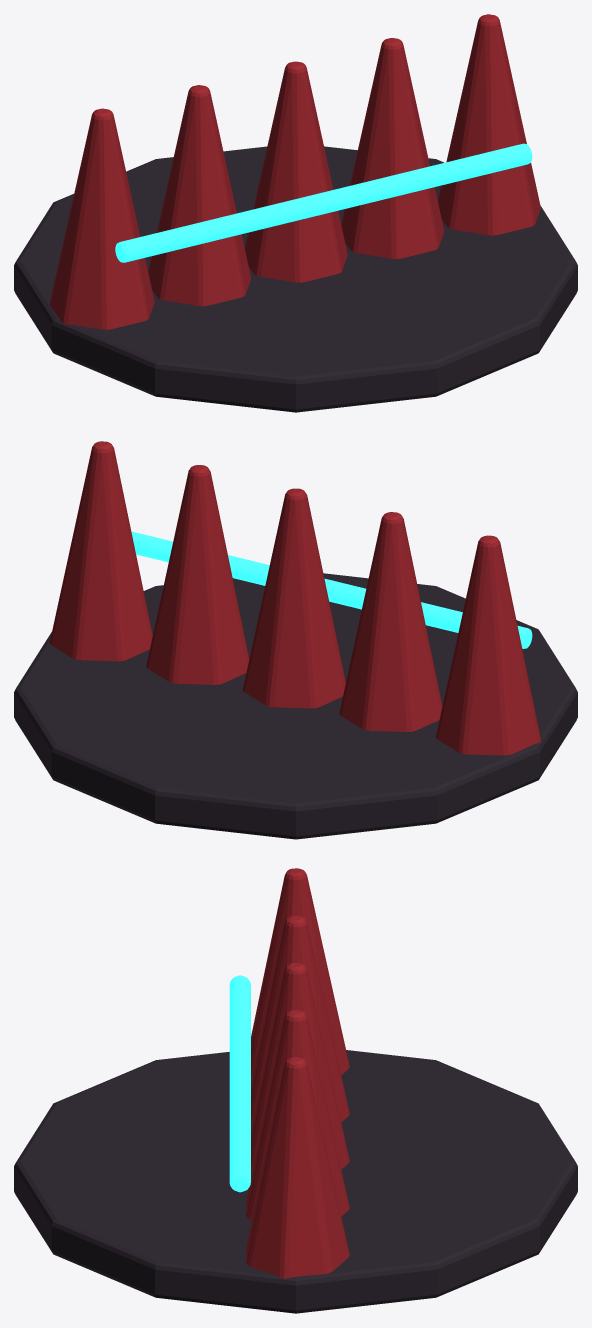
The model's file is alien_wall.glb.
The picture shows the model from 3 angles, top to bottom: view 1: azimuth 30°, elevation 25°; view 2: azimuth 150°, elevation 25°; view 3: azimuth 270°, elevation 25°; orthographic projection.
Visible parts, largest first — view 1: Foundation, WallBlade, WallBlade.004, WallBlade.002, WallBlade.001, WallBlade.003, EnergyVein; view 2: Foundation, WallBlade, WallBlade.004, WallBlade.002, WallBlade.003, WallBlade.001, EnergyVein; view 3: Foundation, WallBlade.004, WallBlade.003, WallBlade, WallBlade.001, WallBlade.002, EnergyVein.
Part boxes in pixels (left/top/right/bottom): Foundation: left=14, top=146, right=577, bottom=412; WallBlade: left=49, top=108, right=154, bottom=329; WallBlade.004: left=437, top=14, right=540, bottom=235; WallBlade.002: left=244, top=61, right=347, bottom=282; WallBlade.001: left=148, top=85, right=251, bottom=306; WallBlade.003: left=341, top=38, right=444, bottom=259; EnergyVein: left=115, top=143, right=532, bottom=262; Foundation: left=14, top=573, right=577, bottom=839; WallBlade: left=436, top=535, right=540, bottom=755; WallBlade.004: left=49, top=441, right=152, bottom=661; WallBlade.002: left=242, top=488, right=345, bottom=708; WallBlade.003: left=146, top=465, right=249, bottom=684; WallBlade.001: left=339, top=512, right=442, bottom=731; EnergyVein: left=131, top=531, right=532, bottom=648; Foundation: left=14, top=1050, right=577, bottom=1313; WallBlade.004: left=246, top=1057, right=349, bottom=1278; WallBlade.003: left=246, top=1009, right=349, bottom=1219; WallBlade: left=251, top=868, right=349, bottom=1078; WallBlade.001: left=251, top=915, right=349, bottom=1125; WallBlade.002: left=251, top=962, right=349, bottom=1172; EnergyVein: left=229, top=975, right=250, bottom=1192.
Bounding box in the file's own units: 1.72 × 0.78 × 1.72.
